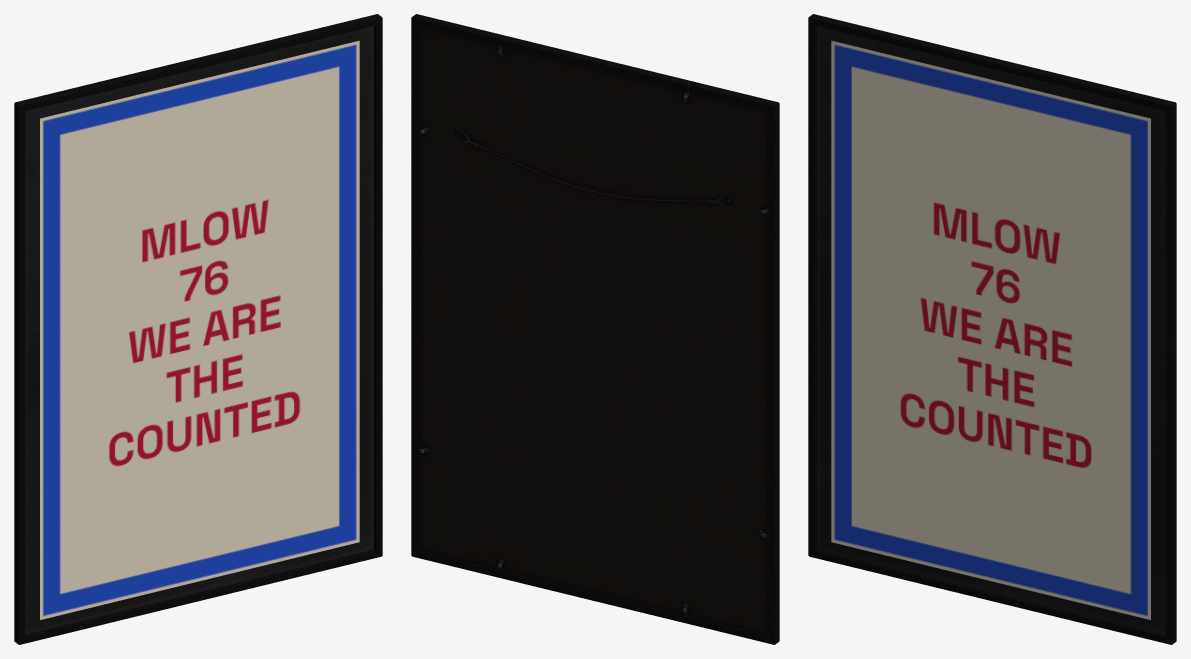
File: nyb_taxi_poster.glb
The picture shows the model from 3 angles, left to right: view 1: azimuth 30°, elevation 25°; view 2: azimuth 150°, elevation 25°; view 3: azimuth 330°, elevation 25°; orthographic projection.
Parts seen in each view (by area): view 1: stk_lbl_897bb7b6b1.png, hanging_picture_frame_01; view 2: hanging_picture_frame_01; view 3: stk_lbl_897bb7b6b1.png, hanging_picture_frame_01.
Boxes of the visible parts, x1,y1,x2,y2 form: stk_lbl_897bb7b6b1.png: (40,40,359,619); hanging_picture_frame_01: (14,14,382,644); hanging_picture_frame_01: (411,14,779,644); stk_lbl_897bb7b6b1.png: (831,40,1150,619); hanging_picture_frame_01: (808,14,1176,644).
Size of the model in its own units: 0.594 by 0.841 by 0.0158.
4 materials, 4 textured.
